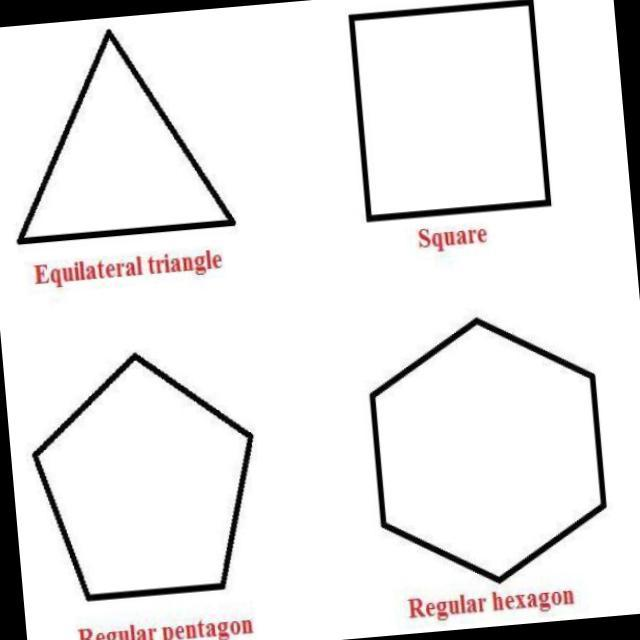square: (322, 0, 588, 227)
triangle: (0, 20, 273, 291)
